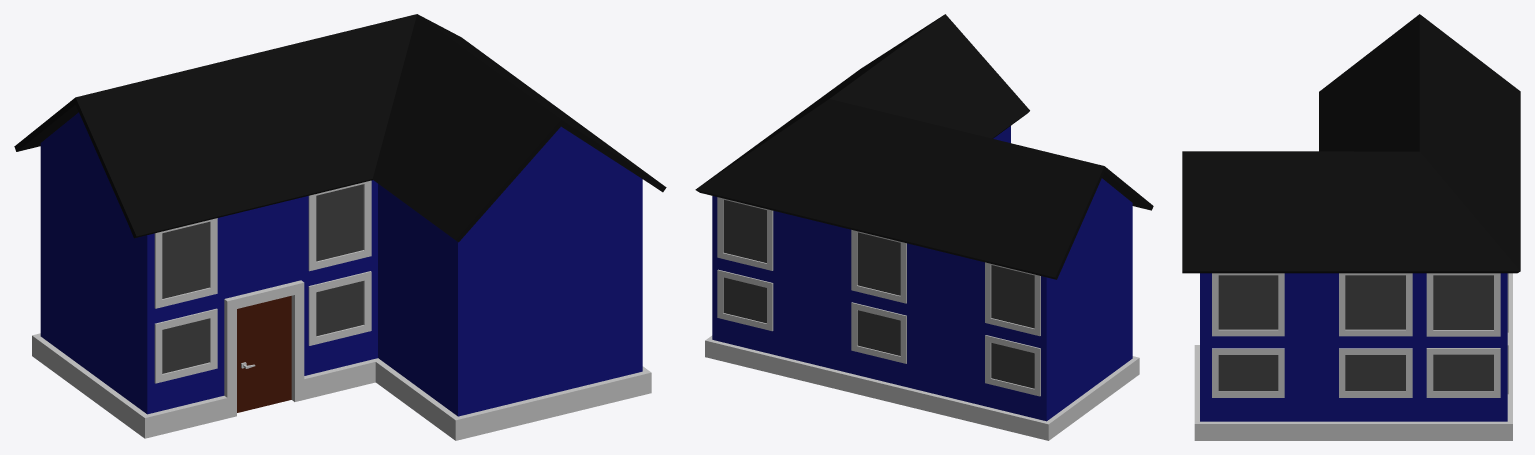
The model's file is house2_3.obj.
The picture shows the model from 3 angles, left to right: view 1: azimuth 30°, elevation 25°; view 2: azimuth 150°, elevation 25°; view 3: azimuth 270°, elevation 25°; orthographic projection. The views are drawn at different scales.
Visible parts, largest first — view 1: house2_3; view 2: house2_3; view 3: house2_3.
Part boxes in pixels (x1,y1,x2,y2): house2_3: (14, 14, 666, 440); house2_3: (695, 14, 1153, 440); house2_3: (1182, 14, 1520, 440).
Bounding box in the file's own units: 9.69 × 6.28 × 7.7.
